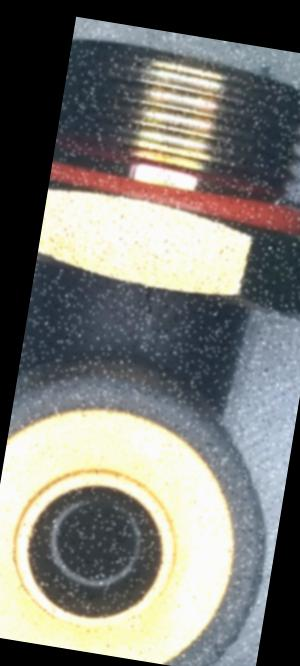craze: (137, 277, 159, 316)
